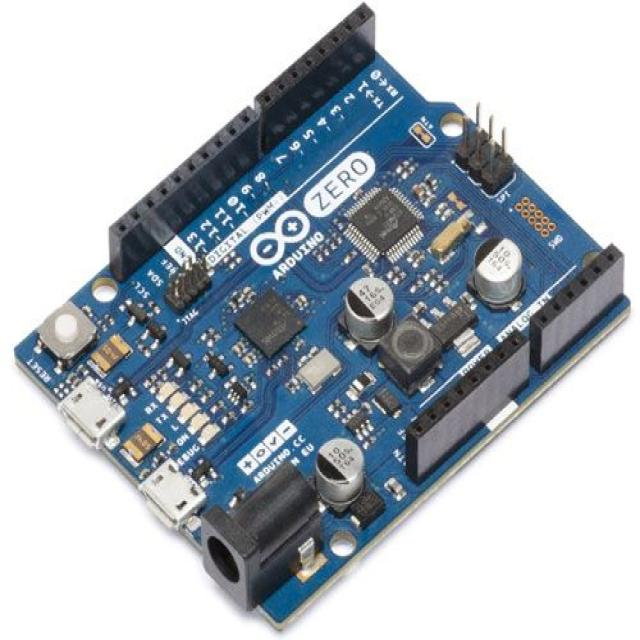Arduino: (0, 0, 638, 640)
